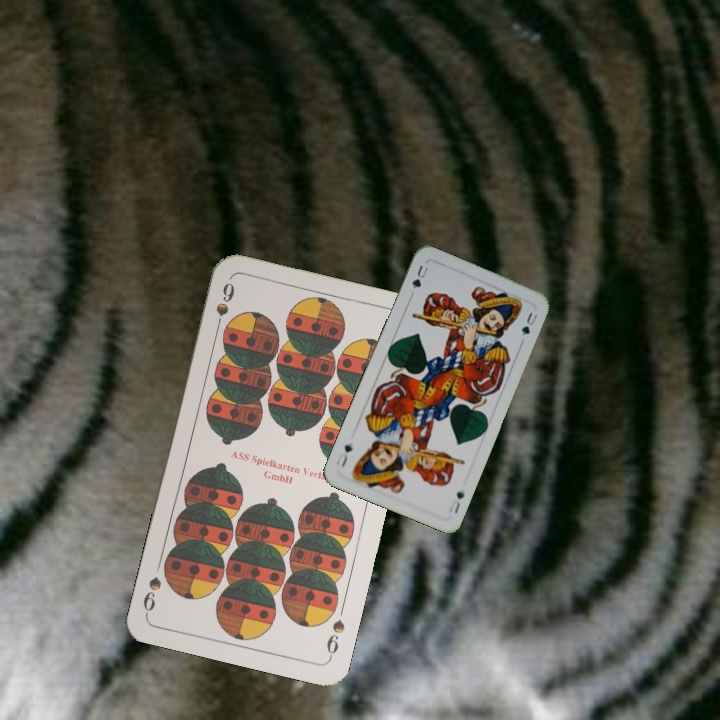GU: (408, 261, 431, 292), (445, 487, 467, 517)
S9: (211, 278, 237, 335), (322, 615, 348, 661)
